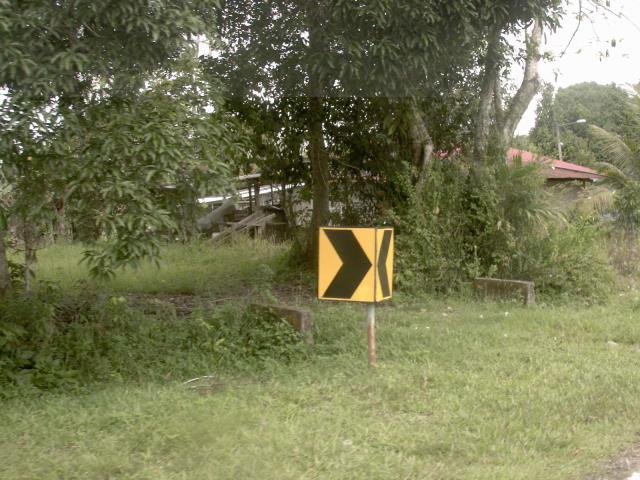traffic_sign: (308, 210, 377, 312)
